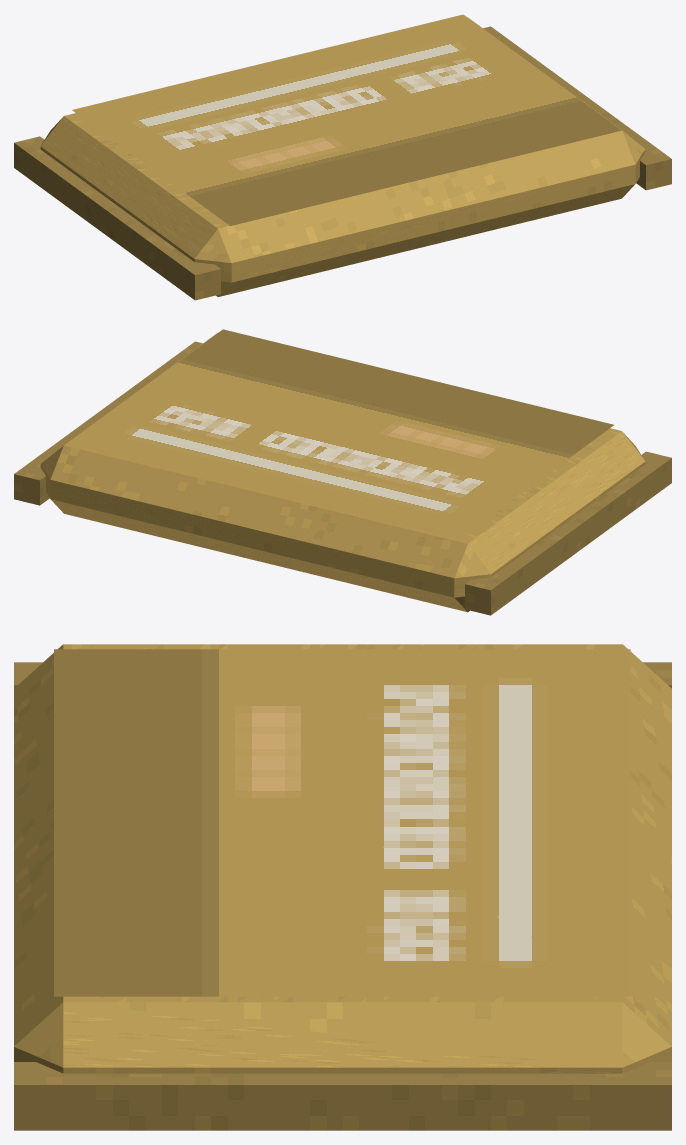
Rendered from powder_eggs.glb.
The picture shows the model from 3 angles, top to bottom: view 1: azimuth 30°, elevation 25°; view 2: azimuth 150°, elevation 25°; view 3: azimuth 270°, elevation 25°; orthographic projection. The views are drawn at different scales.
Visible parts, largest first — view 1: block_printed sachet panel, block_filled laminated sachet, block_crimped closure (×2); view 2: block_printed sachet panel, block_filled laminated sachet, block_crimped closure (×2); view 3: block_printed sachet panel, block_filled laminated sachet, block_crimped closure (×2).
Boxes of the visible parts, x1,y1,x2,y2 form: block_printed sachet panel: (72, 14, 621, 225); block_filled laminated sachet: (40, 17, 645, 296); block_crimped closure (×2): (14, 26, 671, 300); block_printed sachet panel: (64, 329, 613, 540); block_filled laminated sachet: (40, 333, 645, 612); block_crimped closure (×2): (14, 341, 671, 615); block_printed sachet panel: (54, 649, 630, 996); block_filled laminated sachet: (14, 644, 671, 1073); block_crimped closure (×2): (14, 662, 671, 1130).
Bounding box in the file's own units: 0.0471 × 0.00665 × 0.031.
Materials: 1 (1 with a texture image).
